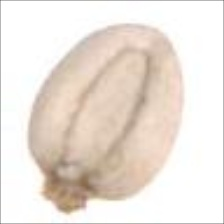L5: (52, 46, 155, 173), (36, 171, 102, 217), (137, 21, 174, 45)
L6: (22, 21, 191, 217)
